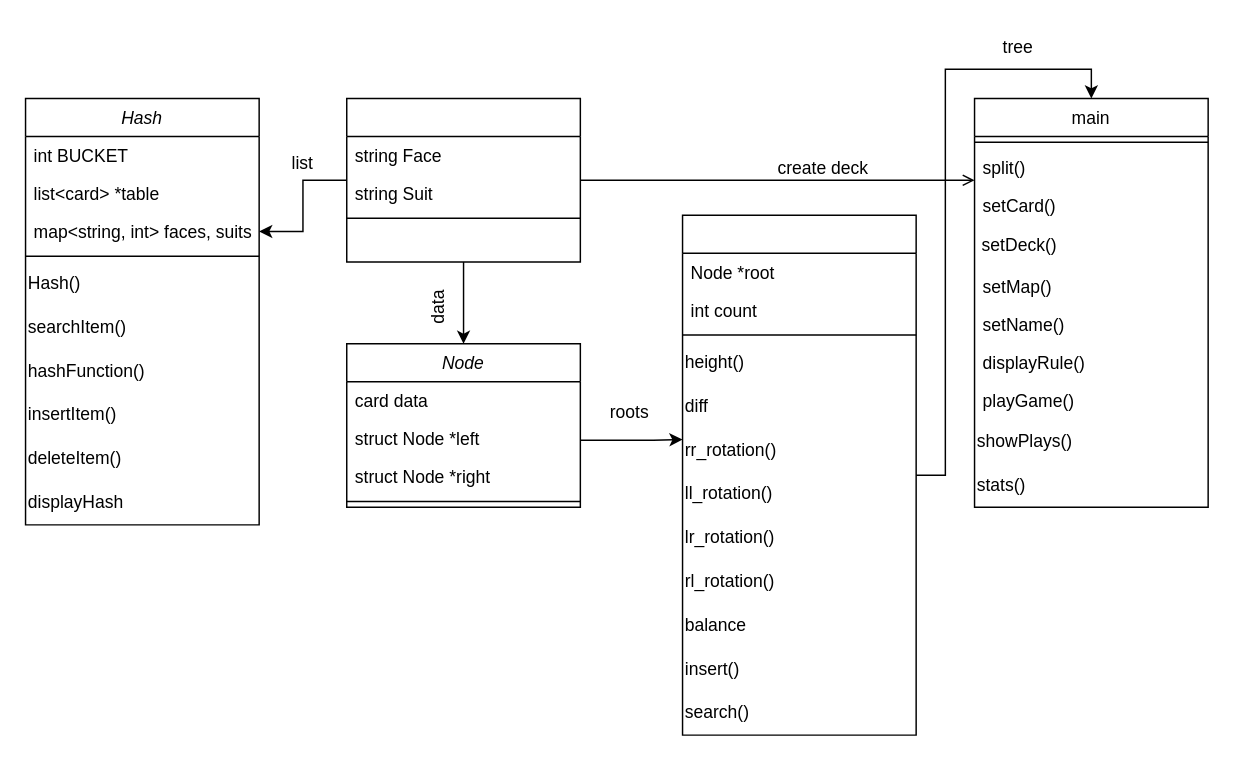
Image size: 1234x761. Some labels were removed from this diagram. Here are the shapes that lost their labels. From the top down, the box of each, then its label:
(345, 97, 580, 262): Card
(681, 214, 916, 735): AVLTree
